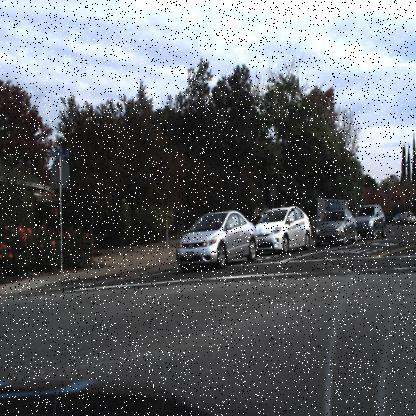car: (175, 208, 260, 272), (250, 205, 312, 256), (314, 208, 358, 249), (351, 203, 387, 241)
